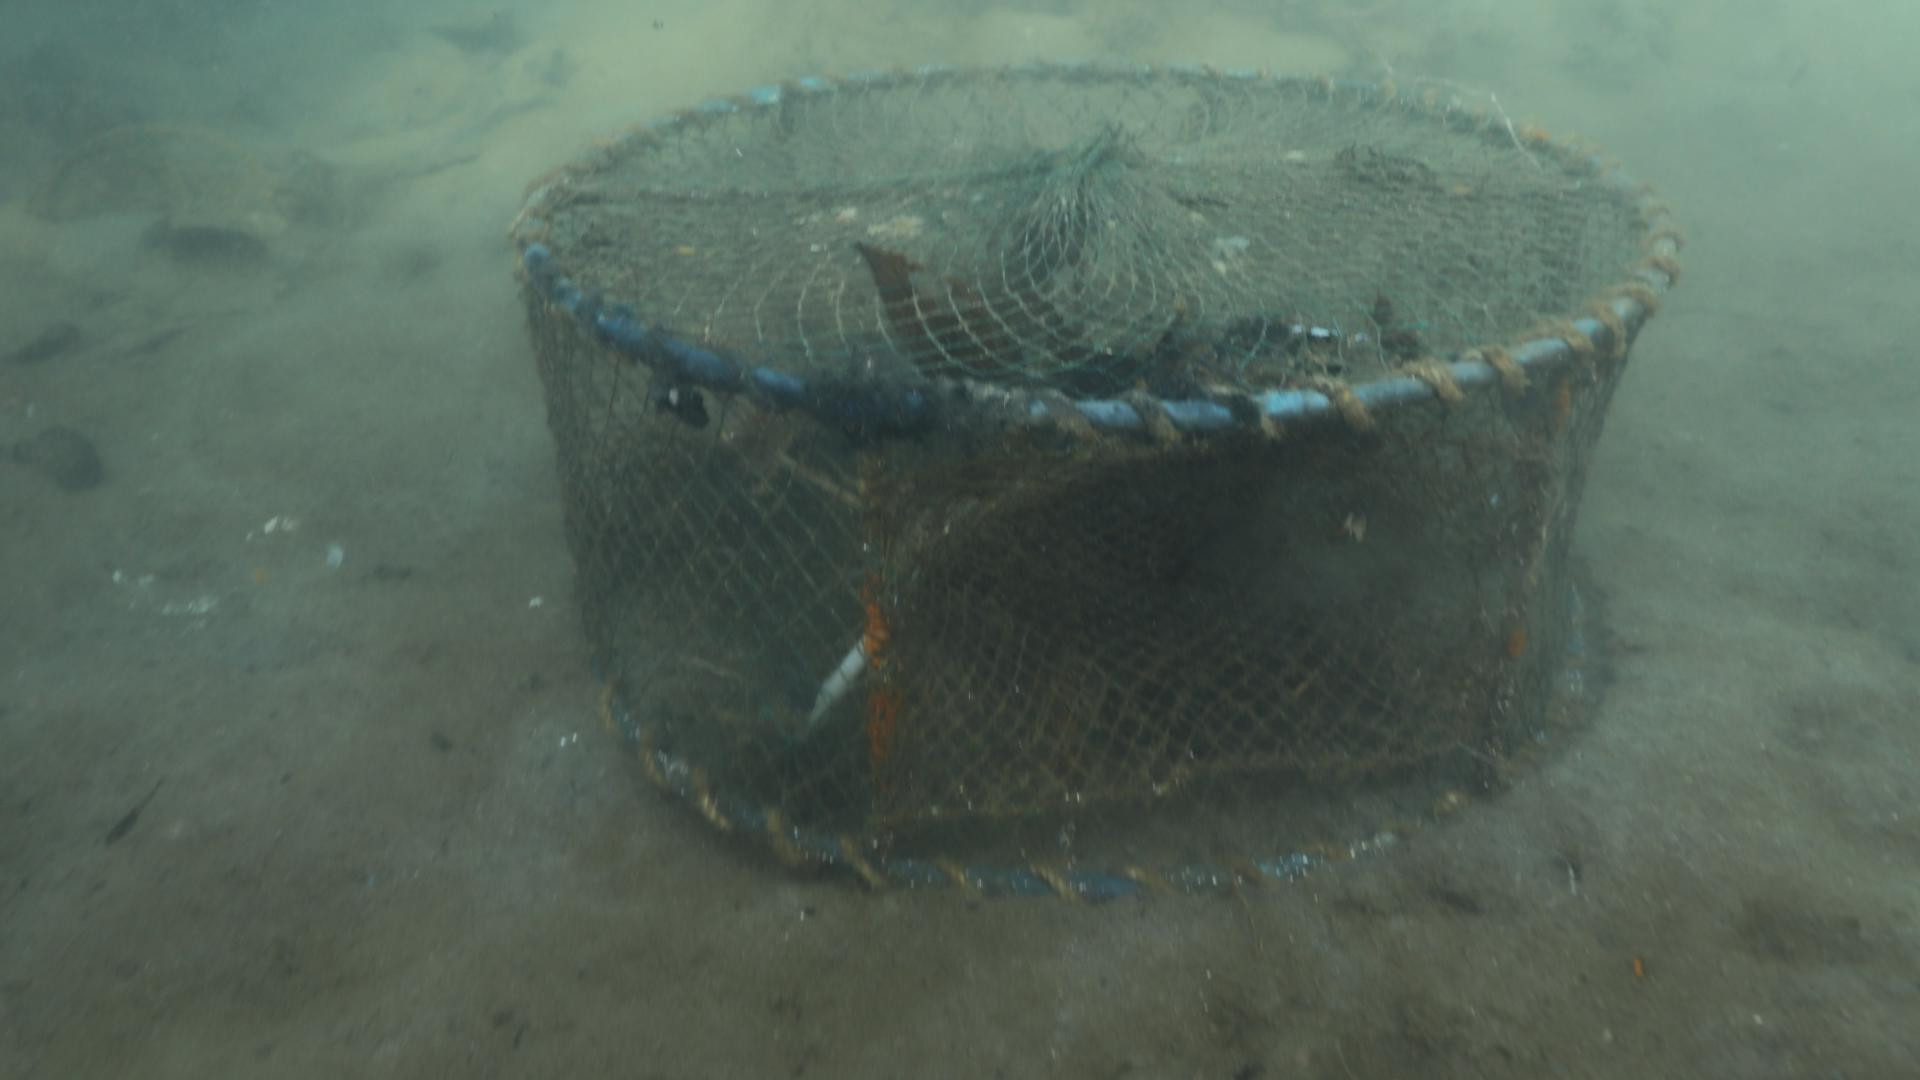circular fish trap: (509, 57, 1683, 898)
